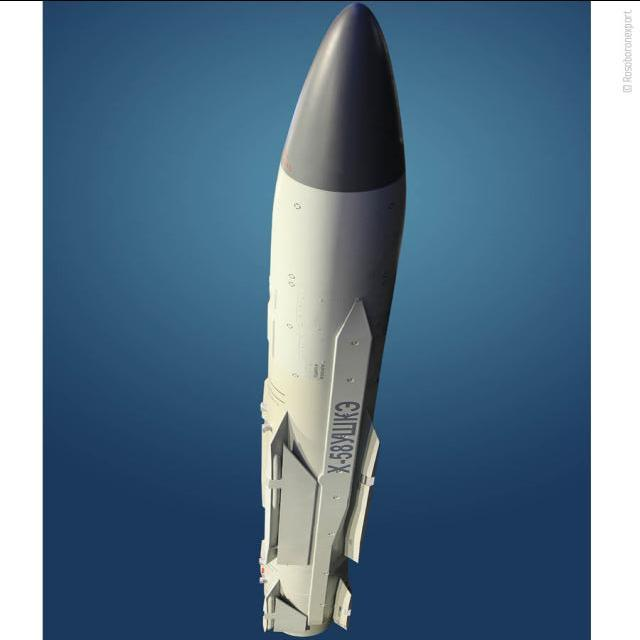missile: (249, 0, 411, 640)
